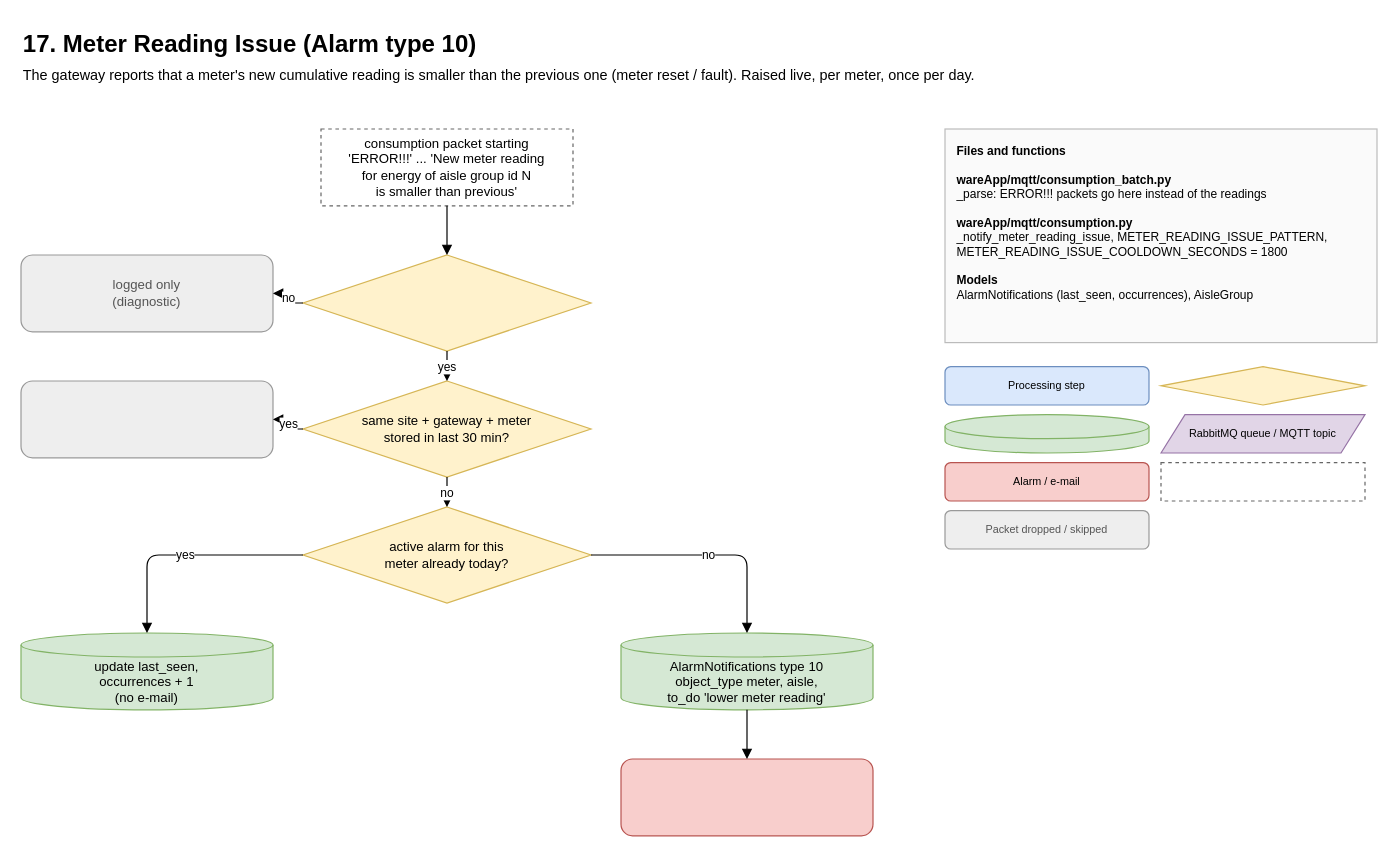
This 1398x857 diagram has some shape labels left out. The shapes that lost their labels are listed below. From the top down, each one's box as (x1, y1, x2, y2) in pixels, then its label:
(302, 254, 591, 351): pattern found? (meter / leg id N)
(1160, 365, 1365, 405): Decision
(20, 380, 273, 458): skip: storage throttled
(944, 413, 1149, 453): Database table
(1160, 461, 1365, 501): External: gateway, broker, timer
(620, 758, 873, 836): e-mail 'Meter Reading Issue' gateway, leg, aisle
